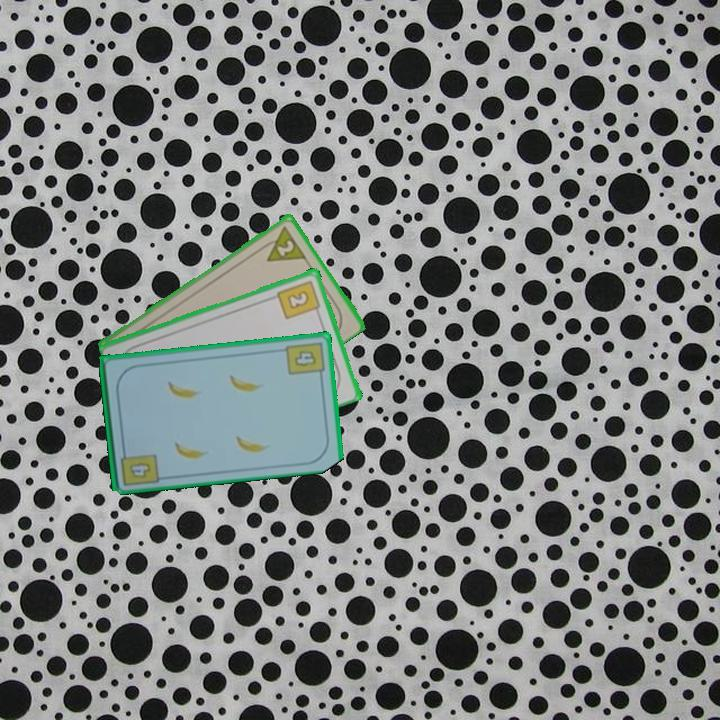2b: (274, 277, 323, 322)
2p: (256, 221, 309, 265)
4b: (117, 444, 161, 488), (282, 338, 327, 381)
